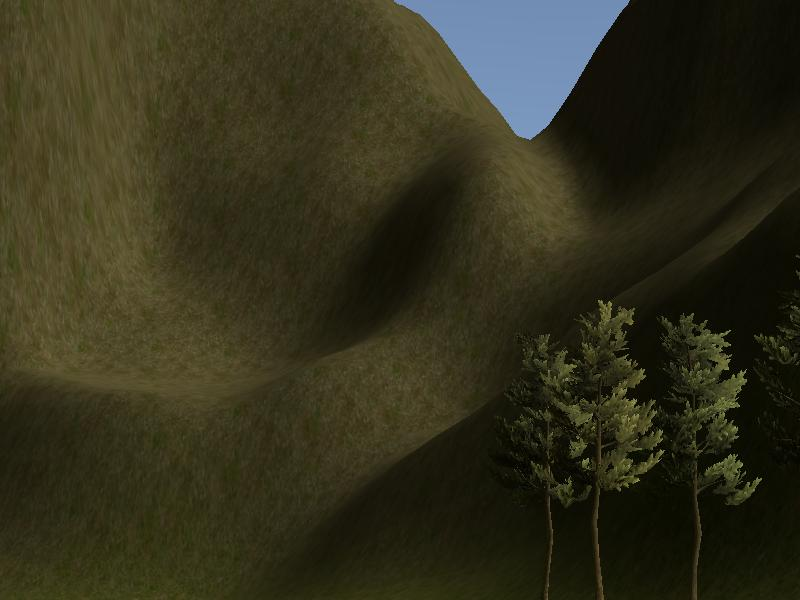background: (2, 1, 798, 598)
